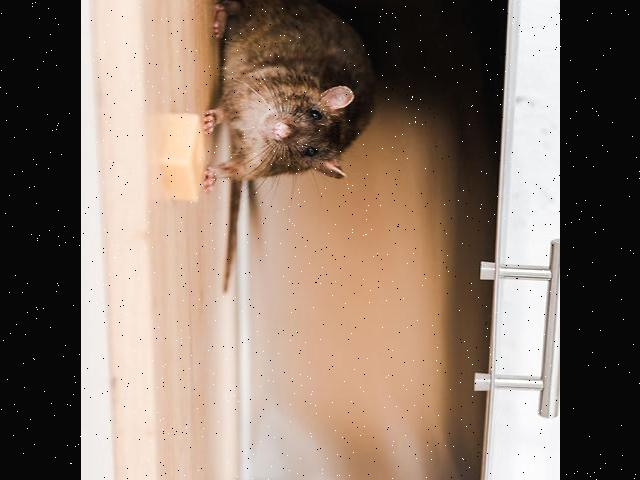Tikus: (202, 0, 382, 221)
